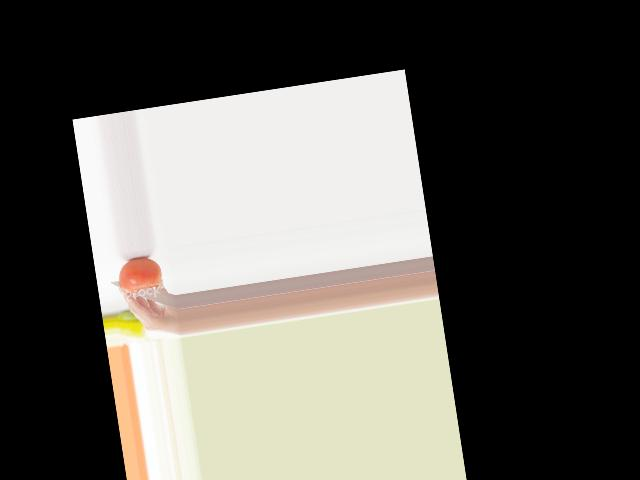tomato: (116, 254, 164, 294)
